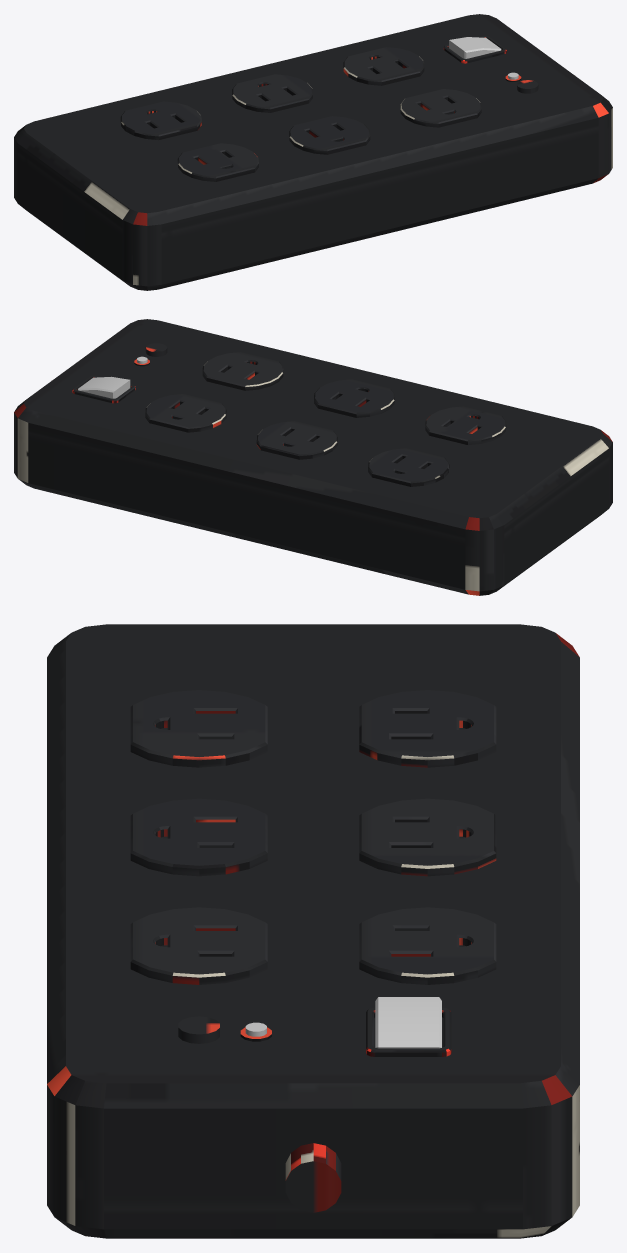
File: lit_lowered.obj
3 renders of one model, top to bottom at view 1: azimuth 30°, elevation 25°; view 2: azimuth 150°, elevation 25°; view 3: azimuth 270°, elevation 25°, orthographic. The views are drawn at different scales.
Visible parts, largest first — view 1: strip6_shell, strip6_face_a2, strip6_face_b2, strip6_face_a0, strip6_face_b0, strip6_face_b1, strip6_face_a1, strip6_rocker_lit, strip6_bezel; view 2: strip6_shell, strip6_face_a2, strip6_face_b2, strip6_face_b0, strip6_face_a0, strip6_face_a1, strip6_face_b1, strip6_rocker_lit, strip6_bezel; view 3: strip6_shell, strip6_face_a0, strip6_face_b0, strip6_face_a2, strip6_face_b2, strip6_face_a1, strip6_face_b1, strip6_rocker_lit, strip6_grommet, strip6_bezel, strip6_button.
Boxes of the visible parts, box(x1,y1,x2,y2) form: strip6_shell: box(14, 14, 612, 290); strip6_face_a2: box(343, 47, 424, 85); strip6_face_b2: box(400, 89, 481, 127); strip6_face_a0: box(120, 101, 201, 140); strip6_face_b0: box(177, 143, 258, 181); strip6_face_b1: box(289, 116, 370, 154); strip6_face_a1: box(232, 74, 312, 112); strip6_rocker_lit: box(449, 37, 501, 58); strip6_bezel: box(443, 35, 506, 63); strip6_shell: box(14, 319, 612, 595); strip6_face_a2: box(145, 394, 226, 432); strip6_face_b2: box(202, 352, 283, 390); strip6_face_b0: box(425, 406, 506, 445); strip6_face_a0: box(368, 448, 449, 486); strip6_face_a1: box(256, 421, 337, 459); strip6_face_b1: box(314, 379, 394, 417); strip6_rocker_lit: box(78, 376, 130, 398); strip6_bezel: box(72, 375, 135, 403); strip6_shell: box(47, 624, 579, 1238); strip6_face_a0: box(359, 690, 496, 767); strip6_face_b0: box(130, 690, 267, 767); strip6_face_a2: box(359, 907, 496, 984); strip6_face_b2: box(130, 907, 267, 984); strip6_face_a1: box(359, 798, 496, 876); strip6_face_b1: box(130, 798, 267, 876); strip6_rocker_lit: box(375, 997, 441, 1048); strip6_grommet: box(285, 1143, 341, 1212); strip6_bezel: box(366, 1007, 451, 1056); strip6_button: box(178, 1016, 219, 1043).
Bounding box in the file's own units: 0.3675 × 0.0609 × 0.168.
